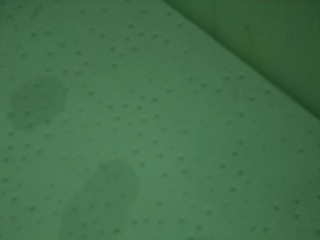Water_detected: (79, 168, 135, 233), (20, 88, 55, 123)
